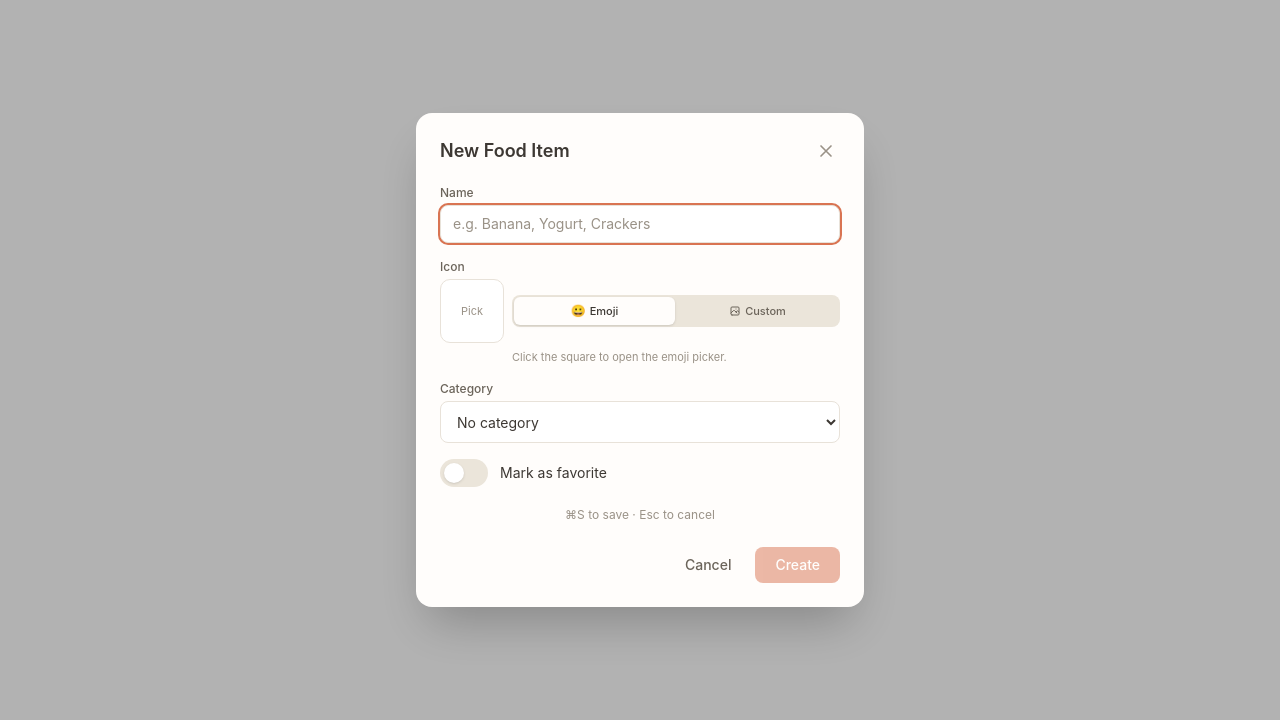
Test: ItemFormModal › food_item variant (mockup emoji-icon-xor-option-d) › Custom → Emoji tab switch clears the URL and restores emoji mode
# Start in emoji mode (default), switch to custom, type a URL
Click the tab "Custom".
click(758, 311)  # box left=677, top=297, right=838, bottom=325
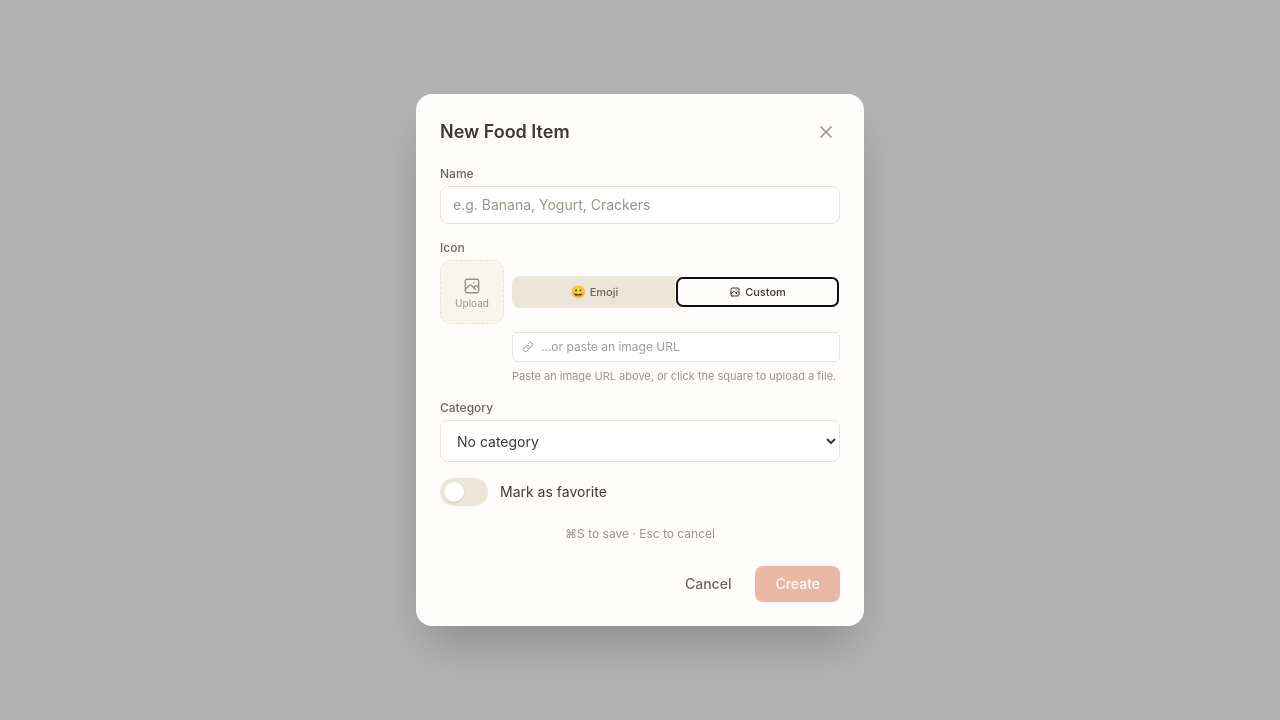
Type "http://example.com/banana.png" into the field with placeholder "…or paste an image URL".
click(676, 347); type("http://example.com/banana.png")  # box left=512, top=332, right=840, bottom=362
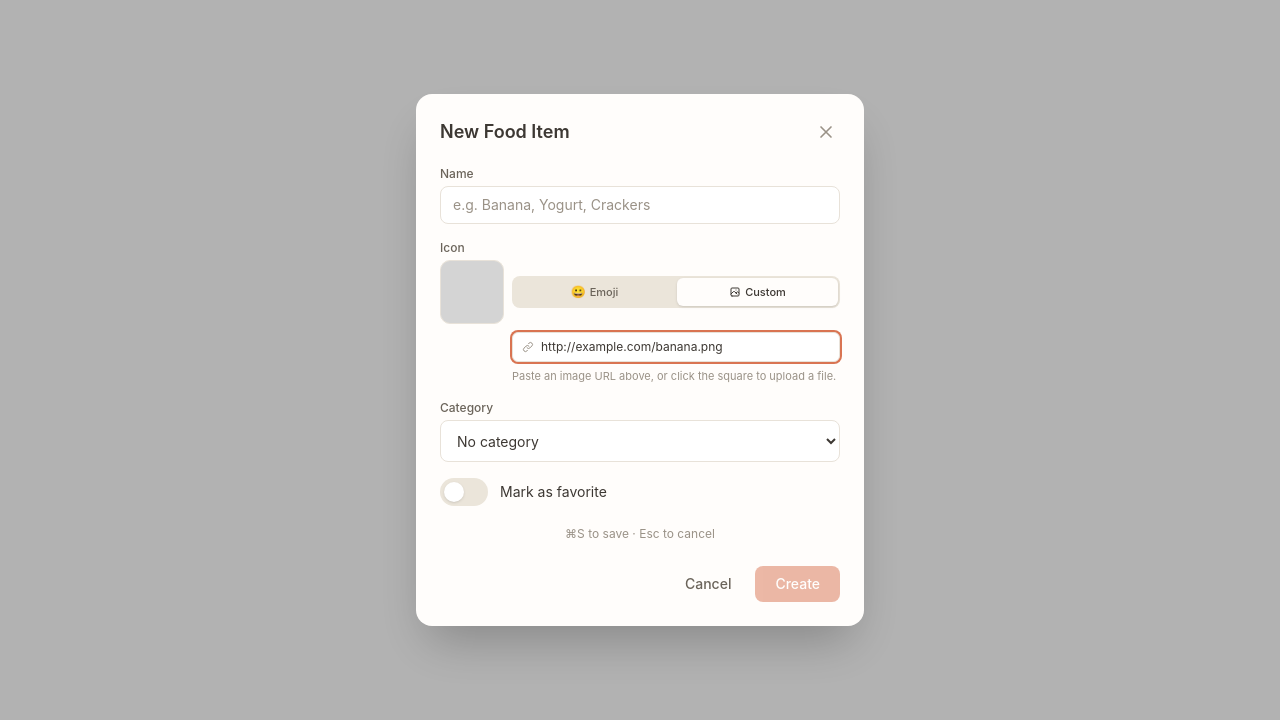
# Switch back to Emoji
Click the tab "😀 Emoji".
click(594, 292)  # box left=514, top=278, right=675, bottom=306
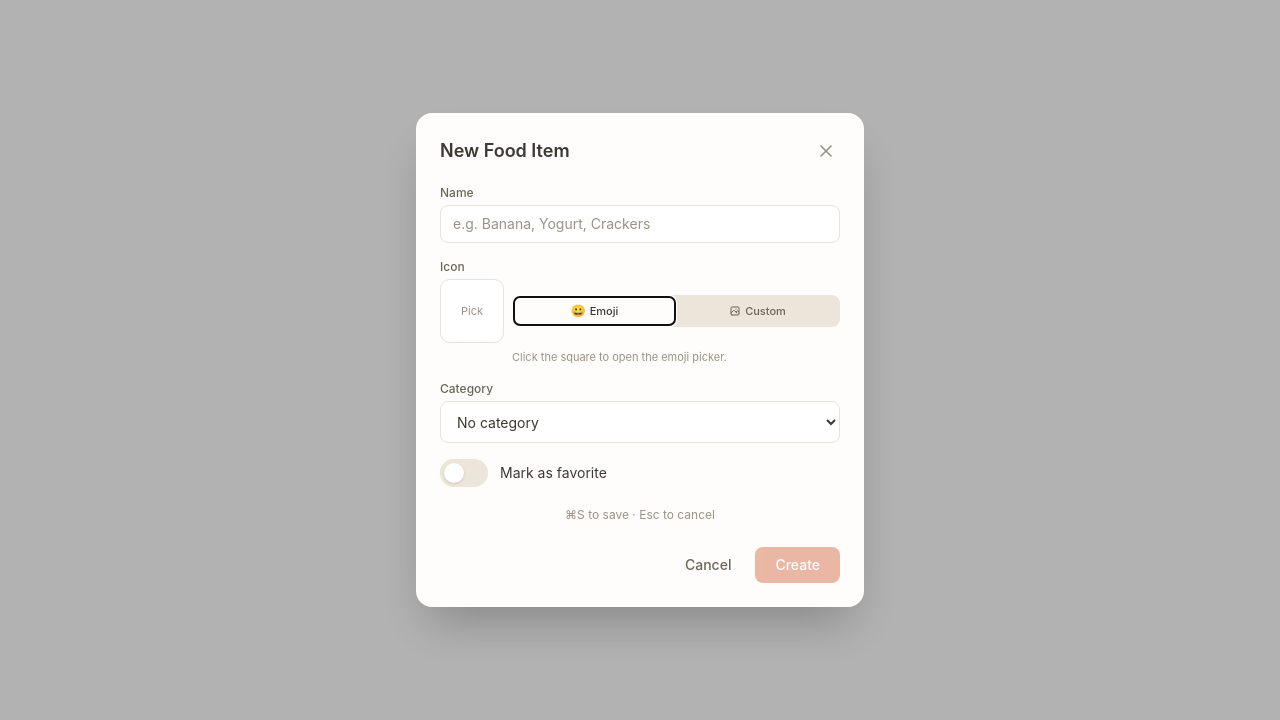
Check: the text with placeholder "Paste an image URL" is gone
